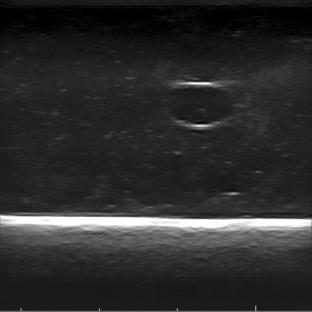vessel: (162, 79, 235, 130)
